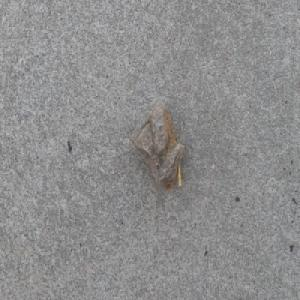Rock: (129, 97, 184, 191)
